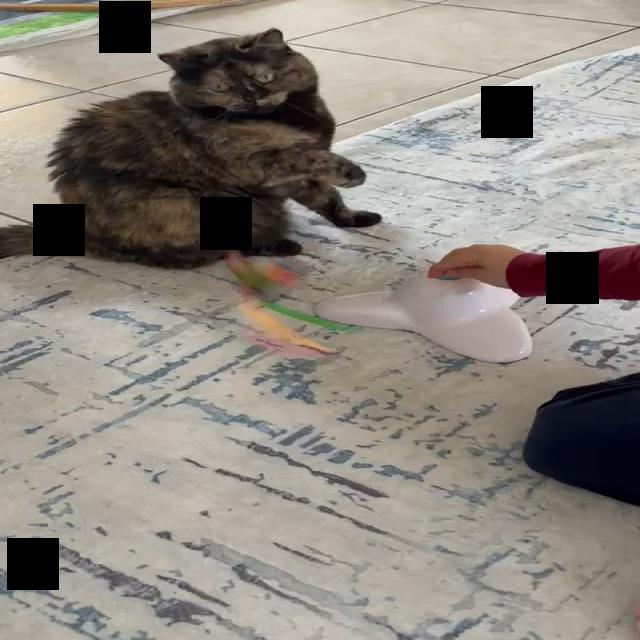authorized: (0, 26, 381, 270)
